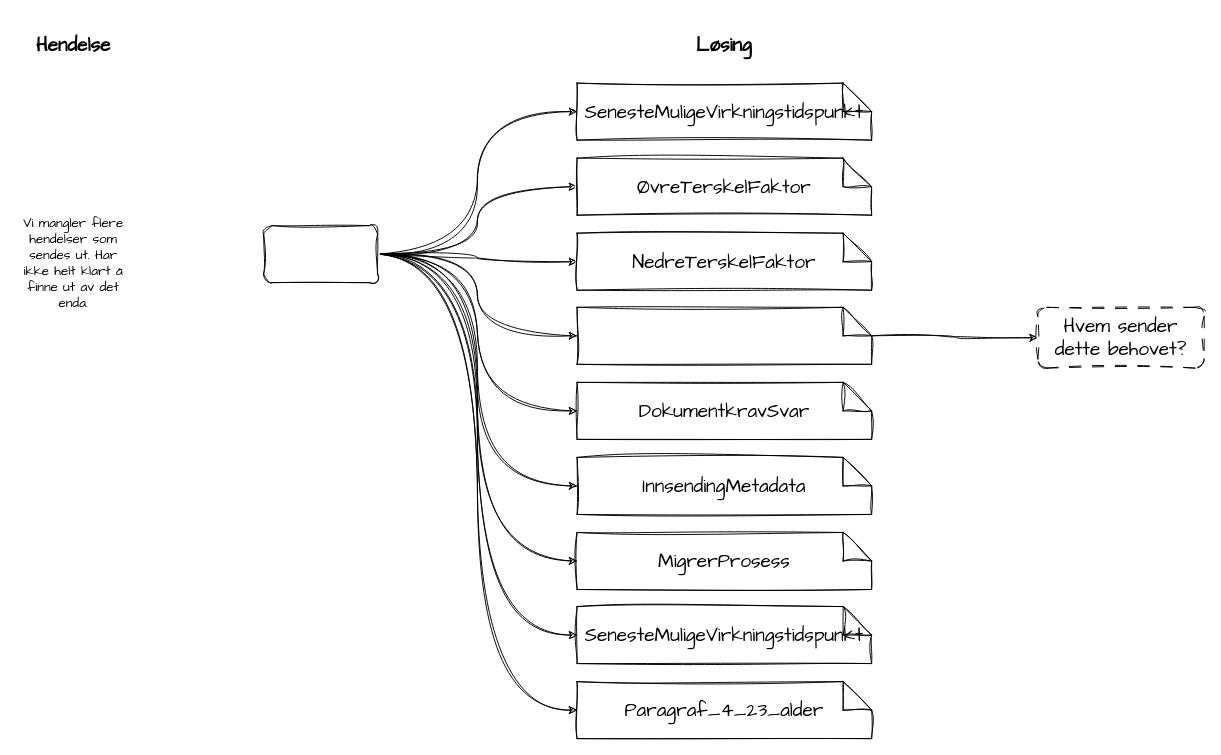
The diagram is 1221 pixels wide and 755 high, and some of its shapes have lost their labels. The centre of each missing label's shape, as x and y in pixels:
"Behandlingsdato" belongs at (x=724, y=335).
"dp-quiz" belongs at (x=320, y=254).
